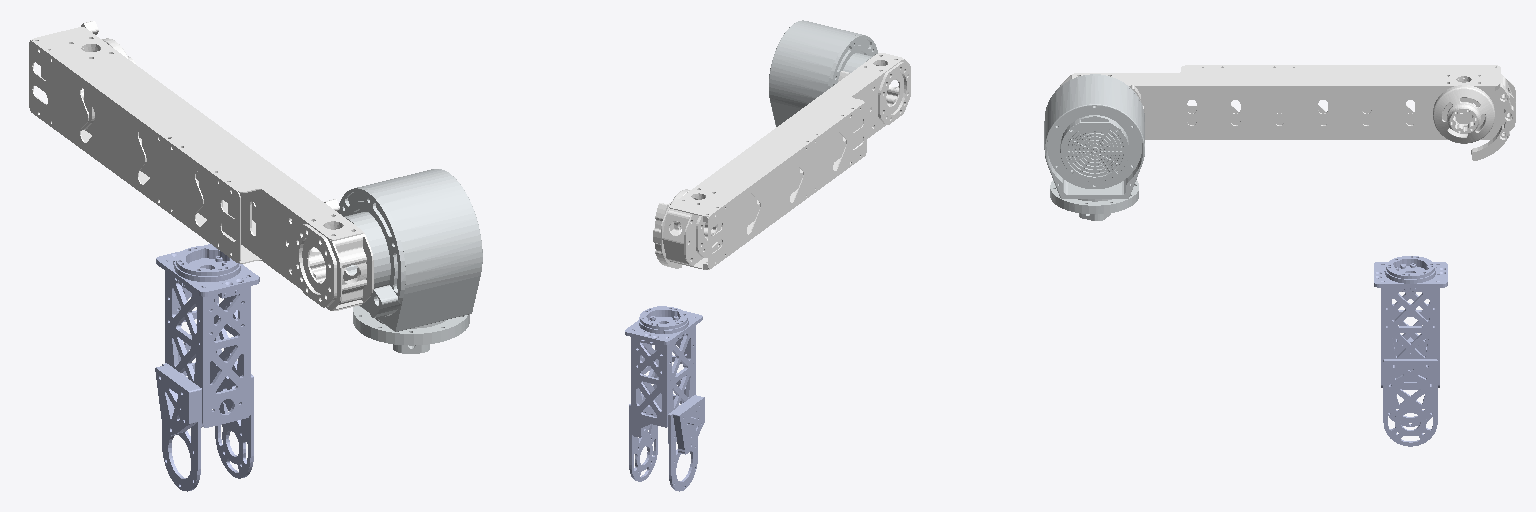
The robot description file, URDF, robot "robo_arm6":
<?xml version="1.0" encoding="utf-8"?>
<!-- This URDF was automatically created by SolidWorks to URDF Exporter! Originally created by Stephen Brawner (brawner@gmail.com) 
     Commit Version: 1.6.0-4-g7f85cfe  Build Version: 1.6.7995.38578
     For more information, please see http://wiki.ros.org/sw_urdf_exporter -->
<robot
  name="robo_arm6">
  <link
    name="base_link">
    <inertial>
      <origin
        xyz="-2.77555756156289E-17 1.38777878078145E-17 0.0237295145896128"
        rpy="0 0 0" />
      <mass
        value="0.221707850812672" />
      <inertia
        ixx="0.000129009433567113"
        ixy="5.0821976835258E-20"
        ixz="1.13853792365339E-20"
        iyy="0.000129009433567113"
        iyz="-1.13948298638165E-21"
        izz="0.000250000920269705" />
    </inertial>
    <visual>
      <origin
        xyz="0 0 0"
        rpy="0 0 0" />
      <geometry>
        <mesh
          filename="package://robo_arm6/meshes/base_link.STL" />
      </geometry>
      <material
        name="">
        <color
          rgba="0.898039215686275 0.917647058823529 0.929411764705882 1" />
      </material>
    </visual>
    <collision>
      <origin
        xyz="0 0 0"
        rpy="0 0 0" />
      <geometry>
        <mesh
          filename="package://robo_arm6/meshes/base_link.STL" />
      </geometry>
    </collision>
  </link>
  <link
    name="link1">
    <inertial>
      <origin
        xyz="-0.010369 -1.6053E-05 0.05425"
        rpy="0 0 0" />
      <mass
        value="0.86231" />
      <inertia
        ixx="0.001335"
        ixy="-1.1514E-08"
        ixz="2.4594E-05"
        iyy="0.00090906"
        iyz="1.6965E-07"
        izz="0.00083542" />
    </inertial>
    <visual>
      <origin
        xyz="0 0 0"
        rpy="0 0 0" />
      <geometry>
        <mesh
          filename="package://robo_arm6/meshes/link1.STL" />
      </geometry>
      <material
        name="">
        <color
          rgba="0.89804 0.91765 0.92941 1" />
      </material>
    </visual>
    <collision>
      <origin
        xyz="0 0 0"
        rpy="0 0 0" />
      <geometry>
        <mesh
          filename="package://robo_arm6/meshes/link1.STL" />
      </geometry>
    </collision>
  </link>
  <joint
    name="joint1"
    type="revolute">
    <origin
      xyz="0 0 0.0265"
      rpy="0 0 0" />
    <parent
      link="base_link" />
    <child
      link="link1" />
    <axis
      xyz="0 0 1" />
    <limit
      lower="-3.14"
      upper="3.14"
      effort="0"
      velocity="0" />
  </joint>
  <link
    name="link2">
    <inertial>
      <origin
        xyz="0.2234 0.00074741 0.015853"
        rpy="0 0 0" />
      <mass
        value="0.66132" />
      <inertia
        ixx="0.00032661"
        ixy="2.6574E-06"
        ixz="-2.1568E-05"
        iyy="0.0063813"
        iyz="6.8045E-08"
        izz="0.0065664" />
    </inertial>
    <visual>
      <origin
        xyz="0 0 0"
        rpy="0 0 0" />
      <geometry>
        <mesh
          filename="package://robo_arm6/meshes/link2.STL" />
      </geometry>
      <material
        name="">
        <color
          rgba="1 1 1 1" />
      </material>
    </visual>
    <collision>
      <origin
        xyz="0 0 0"
        rpy="0 0 0" />
      <geometry>
        <mesh
          filename="package://robo_arm6/meshes/link2.STL" />
      </geometry>
    </collision>
  </link>
  <joint
    name="joint2"
    type="revolute">
    <origin
      xyz="-0.0557 0 0.063"
      rpy="-1.5707963267948966 0 1.5707963267948966" />
    <parent
      link="link1" />
    <child
      link="link2" />
    <axis
      xyz="0 0 1" />
    <limit
      lower="-3.14"
      upper="3.14"
      effort="0"
      velocity="0" />
  </joint>
  <link
    name="link3">
    <inertial>
      <origin
        xyz="0.030122287191117 -0.070802517471287 -0.0327349362450563"
        rpy="0 0 0" />
      <mass
        value="0.807641444812927" />
      <inertia
        ixx="0.000665129907988155"
        ixy="1.82026300764787E-05"
        ixz="3.31017689449403E-06"
        iyy="0.000736397278790779"
        iyz="-5.62187884775328E-05"
        izz="0.000992283570147904" />
    </inertial>
    <visual>
      <origin
        xyz="0 0 0"
        rpy="0 0 0" />
      <geometry>
        <mesh
          filename="package://robo_arm6/meshes/link3.STL" />
      </geometry>
      <material
        name="">
        <color
          rgba="1 1 1 1" />
      </material>
    </visual>
    <collision>
      <origin
        xyz="0 0 0"
        rpy="0 0 0" />
      <geometry>
        <mesh
          filename="package://robo_arm6/meshes/link3.STL" />
      </geometry>
    </collision>
  </link>
  <joint
    name="joint3"
    type="revolute">
    <origin
      xyz="0.38 0 -0.01983"
      rpy="0 0 3.141592653589793" />
    <parent
      link="link2" />
    <child
      link="link3" />
    <axis
      xyz="0 0 -1" />
    <limit
      lower="-1.57"
      upper="4.71"
      effort="0"
      velocity="0" />
  </joint>
  <link
    name="link4">
    <inertial>
      <origin
        xyz="0.00051276 0.002109 0.057091"
        rpy="0 0 0" />
      <mass
        value="0.22515" />
      <inertia
        ixx="0.00014646"
        ixy="1.8726E-07"
        ixz="-8.6201E-07"
        iyy="0.00017021"
        iyz="1.2082E-06"
        izz="6.5841E-05" />
    </inertial>
    <visual>
      <origin
        xyz="0 0 0"
        rpy="0 0 0" />
      <geometry>
        <mesh
          filename="package://robo_arm6/meshes/link4.STL" />
      </geometry>
      <material
        name="">
        <color
          rgba="0.79216 0.81961 0.93333 1" />
      </material>
    </visual>
    <collision>
      <origin
        xyz="0 0 0"
        rpy="0 0 0" />
      <geometry>
        <mesh
          filename="package://robo_arm6/meshes/link4.STL" />
      </geometry>
    </collision>
  </link>
  <joint
    name="joint4"
    type="revolute">
    <origin
      xyz="0.054993 -0.15447 -0.039"
      rpy="1.5707963267948966 0 0" />
    <parent
      link="link3" />
    <child
      link="link4" />
    <axis
      xyz="0 0 1" />
    <limit
      lower="0"
      upper="6.28"
      effort="0"
      velocity="0" />
  </joint>
  <link
    name="link5">
    <inertial>
      <origin
        xyz="0.0393999971839371 -0.00170042083363471 0.0323232478643395"
        rpy="0 0 0" />
      <mass
        value="0.273022749052879" />
      <inertia
        ixx="6.13587294921289E-05"
        ixy="1.91390406727832E-07"
        ixz="2.79660153456187E-08"
        iyy="8.3134676325538E-05"
        iyz="3.47934636854636E-07"
        izz="9.4972895240991E-05" />
    </inertial>
    <visual>
      <origin
        xyz="0 0 0"
        rpy="0 0 0" />
      <geometry>
        <mesh
          filename="package://robo_arm6/meshes/link5.STL" />
      </geometry>
      <material
        name="">
        <color
          rgba="0.698039215686274 0.698039215686274 0.698039215686274 1" />
      </material>
    </visual>
    <collision>
      <origin
        xyz="0 0 0"
        rpy="0 0 0" />
      <geometry>
        <mesh
          filename="package://robo_arm6/meshes/link5.STL" />
      </geometry>
    </collision>
  </link>
  <joint
    name="joint5"
    type="revolute">
    <origin
      xyz="0 -0.031 0.1572"
      rpy="-1.5707963267948966 1.5707963267948966 0" />
    <parent
      link="link4" />
    <child
      link="link5" />
    <axis
      xyz="0 0 1" />
    <limit
      lower="0"
      upper="6.28"
      effort="0"
      velocity="0" />
  </joint>
  <link
    name="link6">
    <inertial>
      <origin
        xyz="-2.5199E-12 -1.2682E-11 0.020912"
        rpy="0 0 0" />
      <mass
        value="0.19559" />
      <inertia
        ixx="0.00011065"
        ixy="-3.6524E-17"
        ixz="3.1544E-18"
        iyy="0.00011065"
        iyz="1.5396E-17"
        izz="0.00019269" />
    </inertial>
    <visual>
      <origin
        xyz="0 0 0"
        rpy="0 0 0" />
      <geometry>
        <mesh
          filename="package://robo_arm6/meshes/link6.STL" />
      </geometry>
      <material
        name="">
        <color
          rgba="0.29804 0.29804 0.29804 1" />
      </material>
    </visual>
    <collision>
      <origin
        xyz="0 0 0"
        rpy="0 0 0" />
      <geometry>
        <mesh
          filename="package://robo_arm6/meshes/link6.STL" />
      </geometry>
    </collision>
  </link>
  <joint
    name="joint6"
    type="revolute">
    <origin
      xyz="0.096475 0 0.032"
      rpy="0 1.5707963267948966 0" />
    <parent
      link="link5" />
    <child
      link="link6" />
    <axis
      xyz="0 0 1" />
    <limit
      lower="-3.14"
      upper="3.14"
      effort="0"
      velocity="0" />
  </joint>
</robot>

--- What the picture shows (computed from the rendered views, not written in the file) ---
The picture shows the robot from 3 angles, left to right: view 1: azimuth 30°, elevation 25°; view 2: azimuth 150°, elevation 25°; view 3: azimuth 270°, elevation 25°; orthographic projection.
Model robo_arm6 with 7 links and 6 joints (6 revolute), rooted at base_link, posed every joint at zero.
Links seen in each view (by area): view 1: link2, link4, link1, base_link; view 2: link2, link4, link1; view 3: link2, link1, link4, base_link.
Link boxes in pixels (left/top/right/bottom): link2: left=29, top=21, right=373, bottom=310; link4: left=155, top=244, right=259, bottom=491; link1: left=339, top=169, right=482, bottom=331; base_link: left=353, top=306, right=469, bottom=353; link2: left=653, top=53, right=910, bottom=269; link4: left=625, top=306, right=704, bottom=491; link1: left=769, top=20, right=877, bottom=126; link2: left=1060, top=65, right=1515, bottom=160; link1: left=1044, top=74, right=1144, bottom=201; link4: left=1374, top=256, right=1447, bottom=446; base_link: left=1050, top=180, right=1138, bottom=220.
Size in the robot's own frame: 0.1507 by 0.4848 by 0.3914 metres.
Meshes: 7 distinct files referenced, 4 mesh visuals loaded (4 binary STL); not drawn: 3 (reference not matched to a file when rendering).
